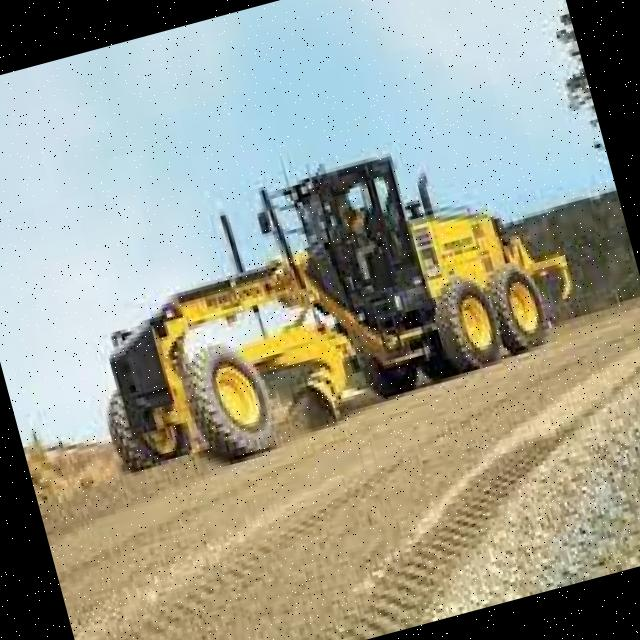Grader: (28, 95, 612, 519)
